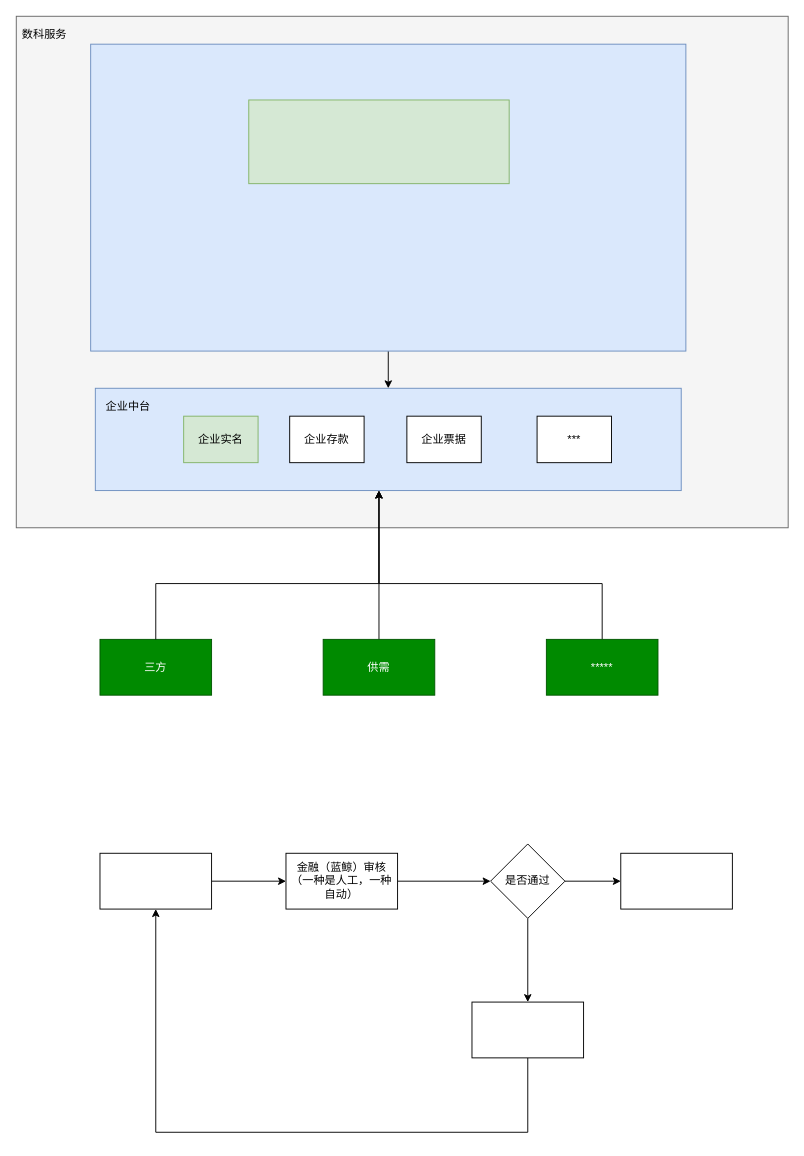
The diagram is 804 pixels wide and 1156 high, and some of its shapes have lost their labels. The box of each missing label's shape, as (x1, y1, x2, y2) in pixels:
OCR上传照片: (99, 852, 212, 909)
京东金融已有企业服务: (248, 99, 509, 184)
完成企业实名: (620, 852, 732, 909)
打回: (471, 1001, 584, 1058)
